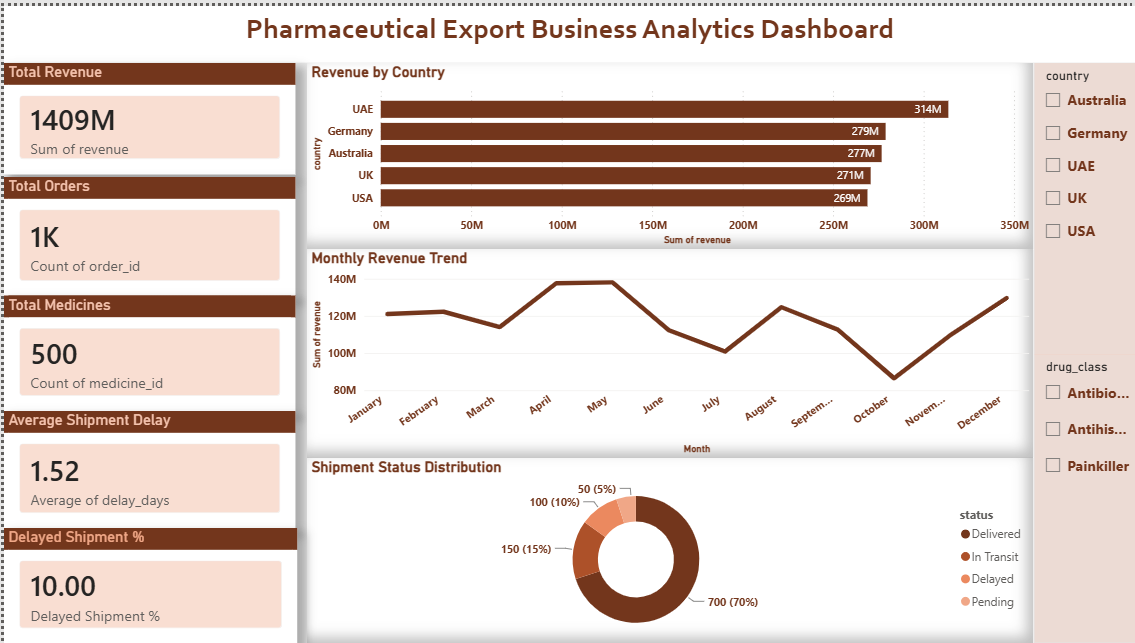

This screenshot's page, from the dashboard's own definition file:
{"tool":"powerbi","page":{"name":"Executive Summary","canvas":[1280,720],"ordinal":0},"visuals":[{"type":"textbox","box":[0,0,1279.3,63.8],"z":0},{"type":"cardVisual","title":"Total Revenue","fields":{"Data":["Sum(exportOrders.revenue)"]},"box":[0,63.8,329.3,125.9],"z":1000},{"type":"cardVisual","title":"Total Orders","fields":{"Data":["CountNonNull(exportOrders.order_id)"]},"box":[0,193.1,329.3,134.5],"z":2000},{"type":"cardVisual","title":"Total Medicines","fields":{"Data":["Count(medicine.medicine_id)"]},"box":[0,327.6,329.3,131],"z":3000},{"type":"cardVisual","title":"Average Shipment Delay","fields":{"Data":["Avg(Shipment.delay_days)"]},"box":[0,456.9,329.3,132.8],"z":4000},{"type":"clusteredBarChart","title":"Revenue by Country","fields":{"Category":["exportOrders.country"],"Y":["Sum(exportOrders.revenue)"]},"box":[343.1,63.8,820.7,210.3],"z":5000},{"type":"donutChart","title":"Shipment Status Distribution","fields":{"Category":["Shipment.status"],"Y":["CountNonNull(Shipment.shipment_id)"]},"box":[343.1,510.3,820.7,210.3],"z":6000},{"type":"lineChart","title":"Monthly Revenue Trend","fields":{"Y":["Sum(exportOrders.revenue)"],"Category":["exportOrders.order_date.Variation.Date Hierarchy.Month"]},"box":[343.1,274.1,820.7,236.2],"z":7000},{"type":"slicer","title":"Country","fields":{"Values":["exportOrders.country"]},"box":[1163.8,63.8,115.5,329.3],"z":8000},{"type":"slicer","fields":{"Values":["medicine.drug_class"]},"box":[1163.8,393.1,115.5,325.9],"z":9000},{"type":"cardVisual","title":"Delayed Shipment %","fields":{"Data":["Shipment.Delayed Shipment %"]},"box":[0,589.7,331,131],"z":10000}]}

Visuals, with their boxes in screenshot pixels (x1, y1, x2, y2), scaled from the page's 1280x720 canvas onto the 1135x643 screenshot:
textbox: bbox=[0, 0, 1134, 57]
"Total Revenue" cardVisual: bbox=[0, 57, 292, 169]
"Total Orders" cardVisual: bbox=[0, 172, 292, 293]
"Total Medicines" cardVisual: bbox=[0, 293, 292, 410]
"Average Shipment Delay" cardVisual: bbox=[0, 408, 292, 527]
"Revenue by Country" clusteredBarChart: bbox=[304, 57, 1032, 245]
"Shipment Status Distribution" donutChart: bbox=[304, 456, 1032, 642]
"Monthly Revenue Trend" lineChart: bbox=[304, 245, 1032, 456]
"Country" slicer: bbox=[1032, 57, 1134, 351]
slicer - medicine.drug_class: bbox=[1032, 351, 1134, 642]
"Delayed Shipment %" cardVisual: bbox=[0, 527, 294, 642]
